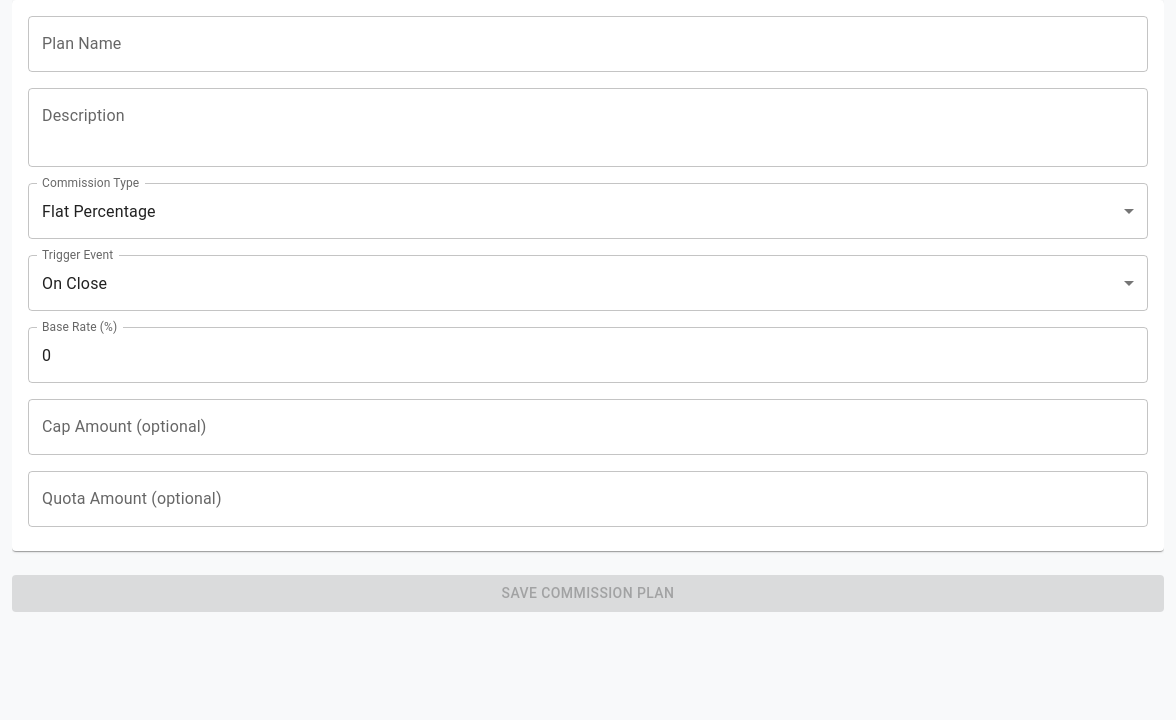
Test: Sales Components › CommissionPlanForm › should enable save button when required fields are filled
Type "Test Plan" into the field labelled "Plan Name" at (588, 44), box [28,16,1148,72]
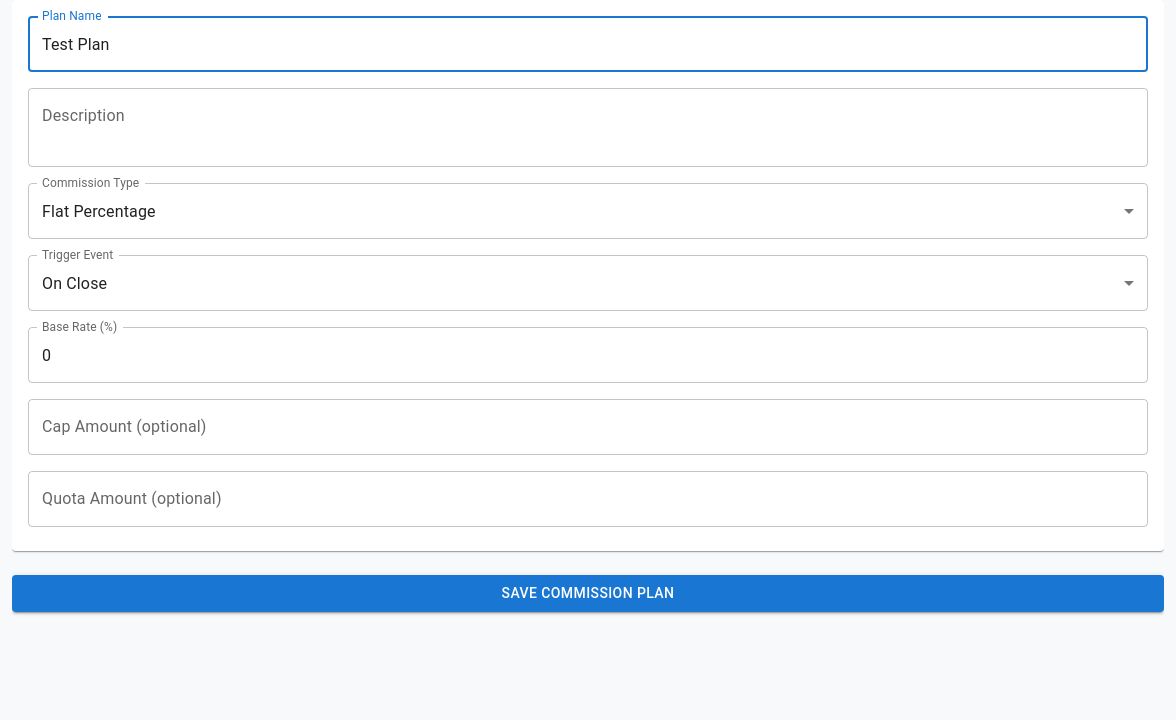
Expected: the button "Save Commission Plan" is enabled, [12,575,1164,612]
